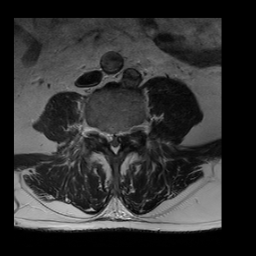CCS_normal: (111, 125, 118, 160)
LFS_stenosis: (124, 119, 131, 142)
LLS_severe_stenosis: (118, 124, 124, 149)
RFS_normal: (97, 120, 104, 144)
RLS_normal: (104, 125, 111, 152)
